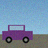vehicle: (2, 25, 32, 43)
